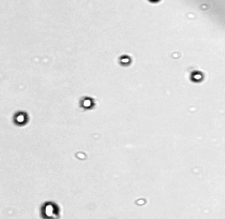Living Cell: (42, 201, 59, 218), (14, 111, 28, 126), (190, 70, 204, 82), (81, 97, 93, 109), (119, 54, 131, 65)
